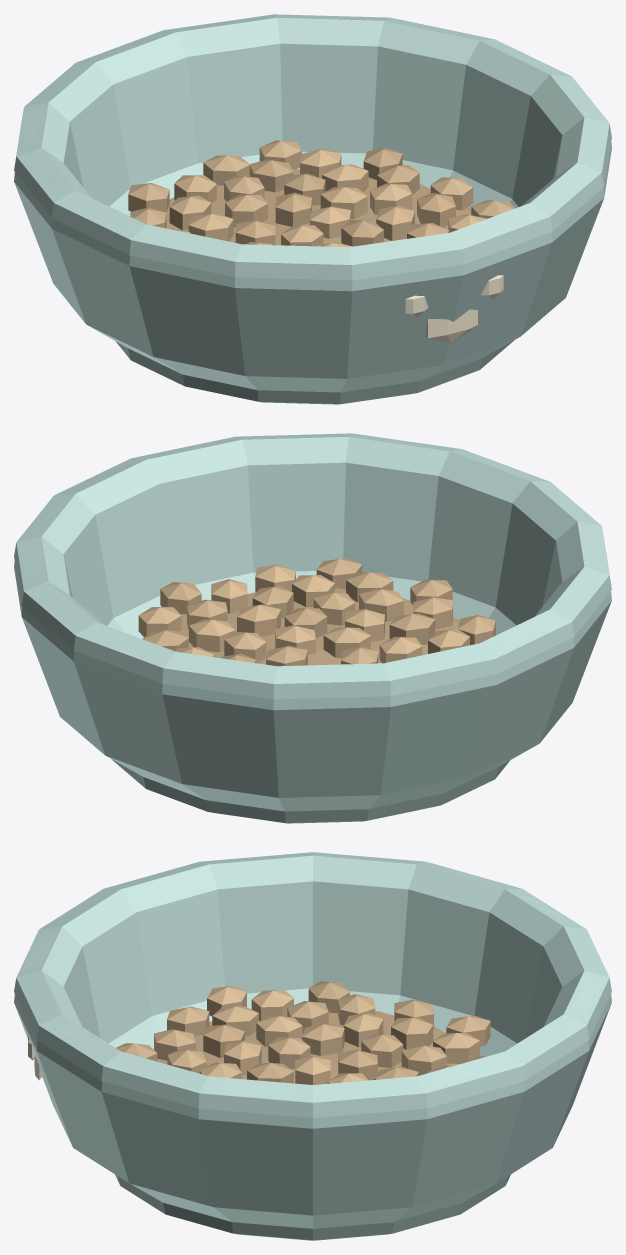
File: crafted-cat-food-5-1.glb
3 renders of one model, top to bottom at view 1: azimuth 30°, elevation 25°; view 2: azimuth 150°, elevation 25°; view 3: azimuth 270°, elevation 25°, orthographic.
Parts seen in each view (by area): view 1: ceramic-bowl, glazed-rim, foot-ring, ration-volume, ration-granule-2, paw-pad, ration-granule-21, ration-granule-7, ration-granule-5, ration-granule-8, ration-granule-41, ration-granule-36 (+19 smaller); view 2: ceramic-bowl, glazed-rim, foot-ring, ration-volume, ration-granule-8, ration-granule-13, ration-granule-14, ration-granule-19, ration-granule-1, ration-granule-34, ration-granule-5, ration-granule-11 (+19 smaller); view 3: ceramic-bowl, glazed-rim, foot-ring, ration-volume, ration-granule-4, ration-granule-28, ration-granule-20, ration-granule-9, ration-granule-7, ration-granule-15, ration-granule-1, ration-granule-35 (+17 smaller).
Boxes of the visible parts, x1,y1,x2,y2 form: ceramic-bowl: [14, 14, 611, 392]; glazed-rim: [14, 14, 611, 280]; foot-ring: [116, 340, 514, 404]; ration-volume: [166, 169, 471, 245]; ration-granule-2: [275, 192, 311, 226]; paw-pad: [426, 309, 477, 343]; ration-granule-21: [417, 193, 455, 227]; ration-granule-7: [225, 194, 267, 227]; ration-granule-5: [320, 187, 367, 218]; ration-granule-8: [376, 205, 414, 240]; ration-granule-41: [128, 183, 169, 212]; ration-granule-36: [203, 155, 249, 185]; ceramic-bowl: [14, 433, 611, 811]; glazed-rim: [14, 433, 611, 699]; foot-ring: [111, 759, 509, 823]; ration-volume: [178, 588, 459, 665]; ration-granule-8: [237, 604, 280, 636]; ration-granule-13: [189, 619, 235, 652]; ration-granule-14: [389, 613, 435, 644]; ration-granule-19: [359, 588, 403, 621]; ration-granule-1: [323, 627, 370, 657]; ration-granule-34: [138, 607, 181, 637]; ration-granule-5: [224, 631, 266, 663]; ration-granule-11: [313, 591, 354, 625]; ceramic-bowl: [14, 852, 611, 1228]; glazed-rim: [14, 852, 611, 1117]; foot-ring: [115, 1174, 510, 1240]; ration-volume: [157, 1011, 480, 1083]; ration-granule-4: [302, 1023, 344, 1055]; ration-granule-28: [433, 1033, 479, 1063]; ration-granule-20: [391, 1017, 433, 1049]; ration-granule-9: [256, 1016, 302, 1046]; ration-granule-7: [361, 1033, 403, 1067]; ration-granule-15: [401, 1045, 446, 1075]; ration-granule-1: [268, 1037, 310, 1068]; ration-granule-35: [167, 1006, 209, 1036].
Size of the model in its own units: 0.76 by 0.265 by 0.76.
